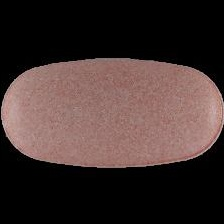0054-0545: (0, 0, 224, 224)
